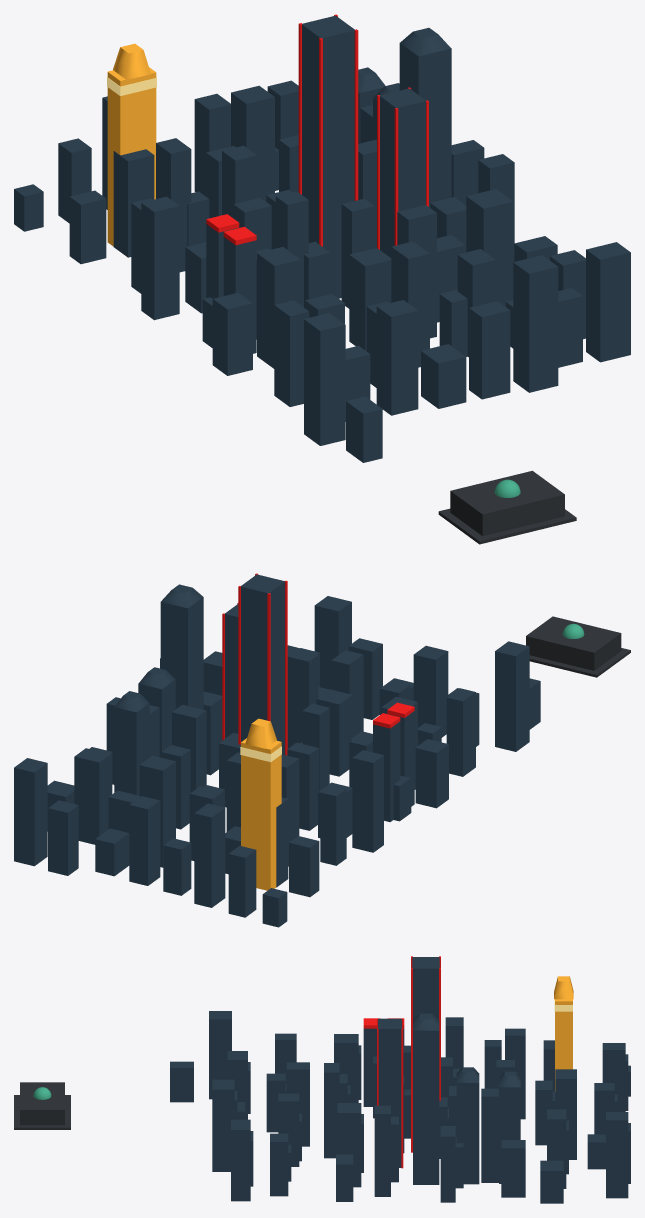
The model's file is yeouido-landmarks.glb.
3 views of the same model, one above another, from view 1: azimuth 30°, elevation 25°; view 2: azimuth 150°, elevation 25°; view 3: azimuth 270°, elevation 25° (orthographic). The views are drawn at different scales.
Visible parts, largest first — view 1: Yeouido 3D Landmarks, Parc1, IFC_Seoul, National_Assembly, 63_Building, LG_Twin_Towers; view 2: Yeouido 3D Landmarks, Parc1, IFC_Seoul, 63_Building, National_Assembly, LG_Twin_Towers; view 3: Yeouido 3D Landmarks, IFC_Seoul, Parc1, National_Assembly, 63_Building, LG_Twin_Towers.
Boxes of the visible parts, x1=… form: Yeouido 3D Landmarks: x1=14, y1=80, x2=630, y2=462; Parc1: x1=298, y1=14, x2=428, y2=298; IFC_Seoul: x1=358, y1=27, x2=451, y2=207; National_Assembly: x1=438, y1=470, x2=576, y2=544; 63_Building: x1=107, y1=43, x2=156, y2=246; LG_Twin_Towers: x1=206, y1=214, x2=256, y2=353; Yeouido 3D Landmarks: x1=14, y1=596, x2=540, y2=927; Parc1: x1=222, y1=573, x2=287, y2=755; IFC_Seoul: x1=114, y1=584, x2=203, y2=795; 63_Building: x1=240, y1=718, x2=281, y2=890; National_Assembly: x1=526, y1=616, x2=630, y2=677; LG_Twin_Towers: x1=373, y1=702, x2=414, y2=821; Yeouido 3D Landmarks: x1=170, y1=1011, x2=630, y2=1203; IFC_Seoul: x1=413, y1=1013, x2=520, y2=1184; Parc1: x1=377, y1=956, x2=440, y2=1168; National_Assembly: x1=14, y1=1082, x2=70, y2=1129; 63_Building: x1=554, y1=976, x2=573, y2=1091; LG_Twin_Towers: x1=363, y1=1018, x2=404, y2=1106.
Size of the model in its own units: 448 by 338 by 1030.
